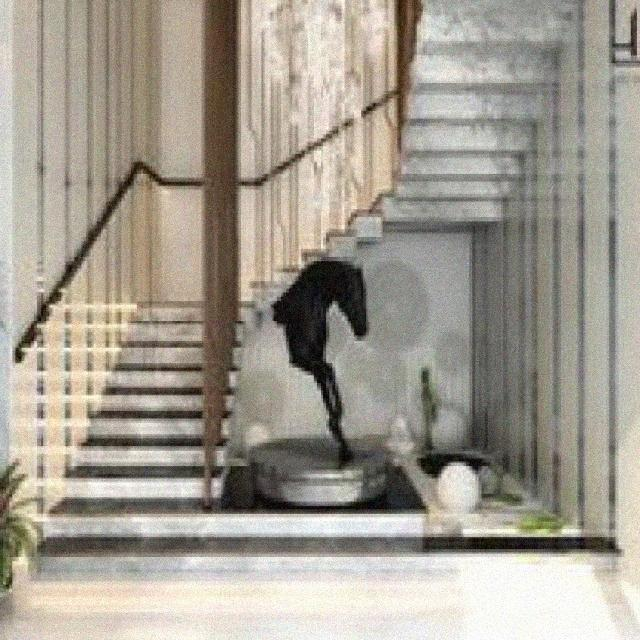stair: (51, 183, 238, 555)
